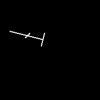double_crochet: (10, 31, 44, 45)
